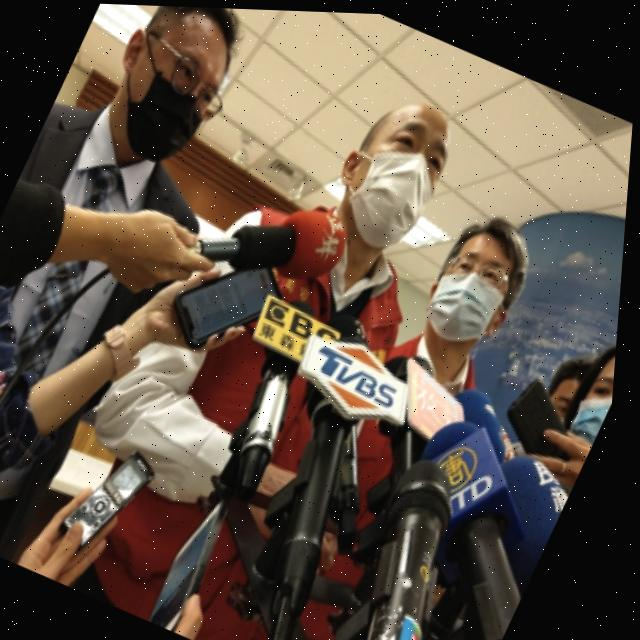Mask: (84, 21, 233, 176), (316, 120, 454, 259), (417, 254, 524, 353), (566, 375, 619, 449)
